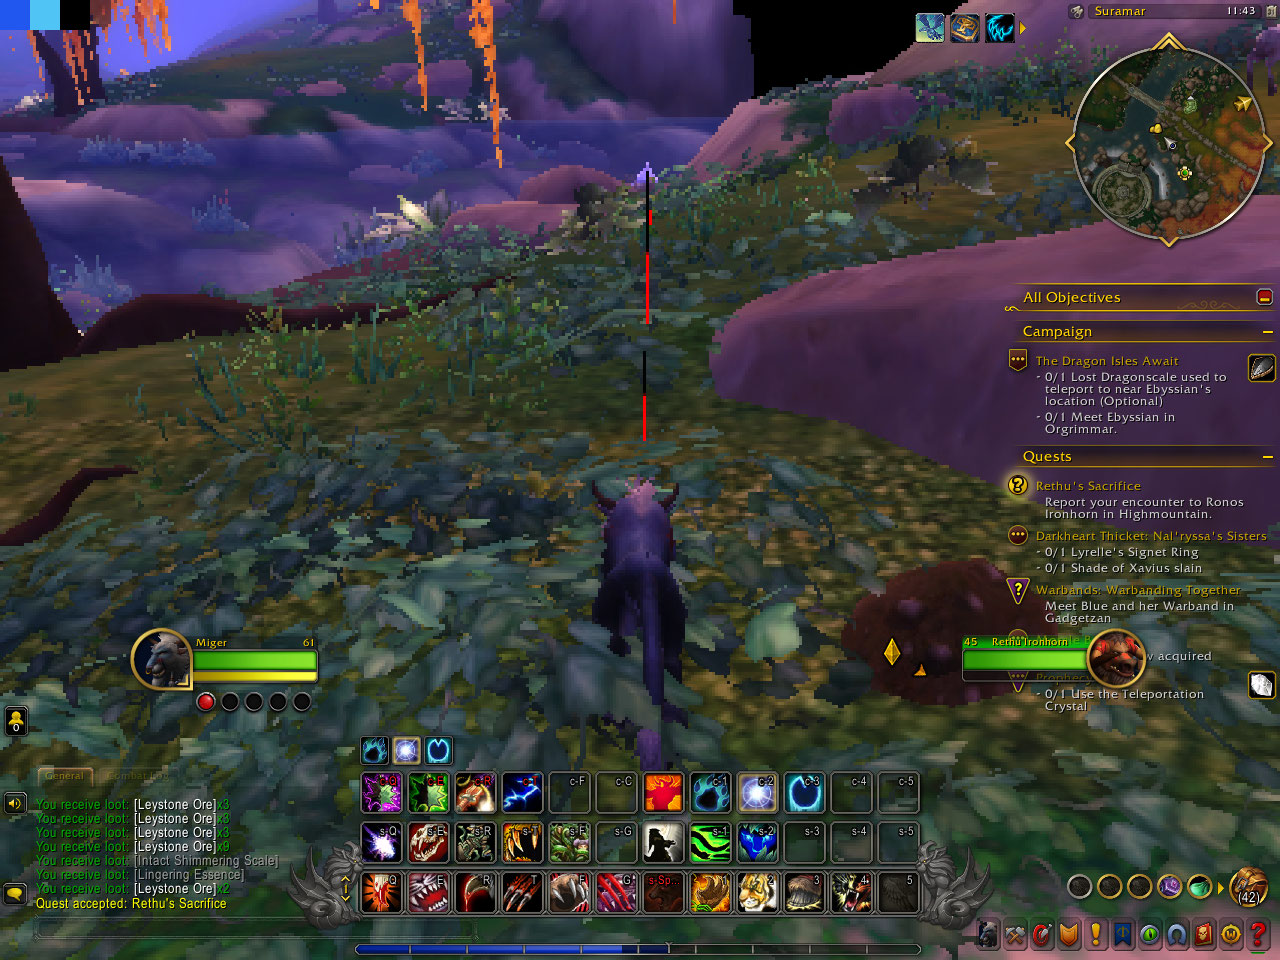ore: (632, 164, 662, 190)
